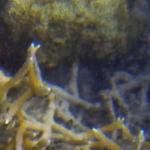dead: (3, 1, 147, 148)
